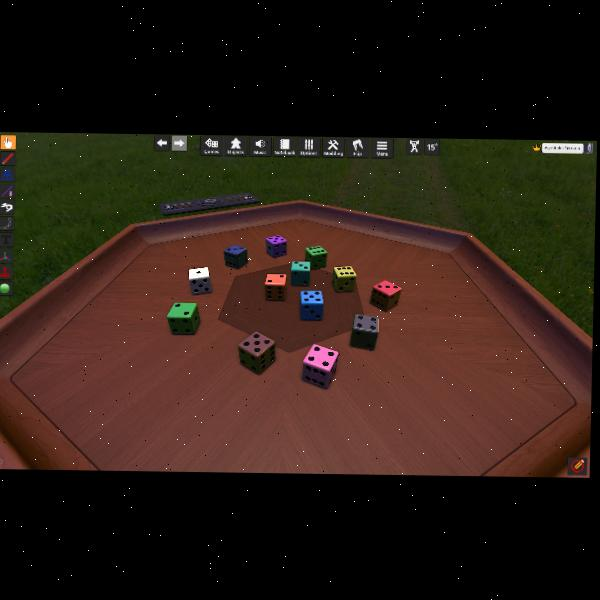d6: (238, 331, 276, 375), (301, 343, 337, 387), (166, 303, 200, 335), (349, 313, 378, 348), (369, 280, 400, 312), (189, 266, 213, 296), (299, 290, 322, 320), (332, 266, 356, 293), (264, 273, 286, 301), (224, 245, 247, 270), (266, 235, 287, 259), (304, 246, 325, 270), (290, 261, 310, 286)
